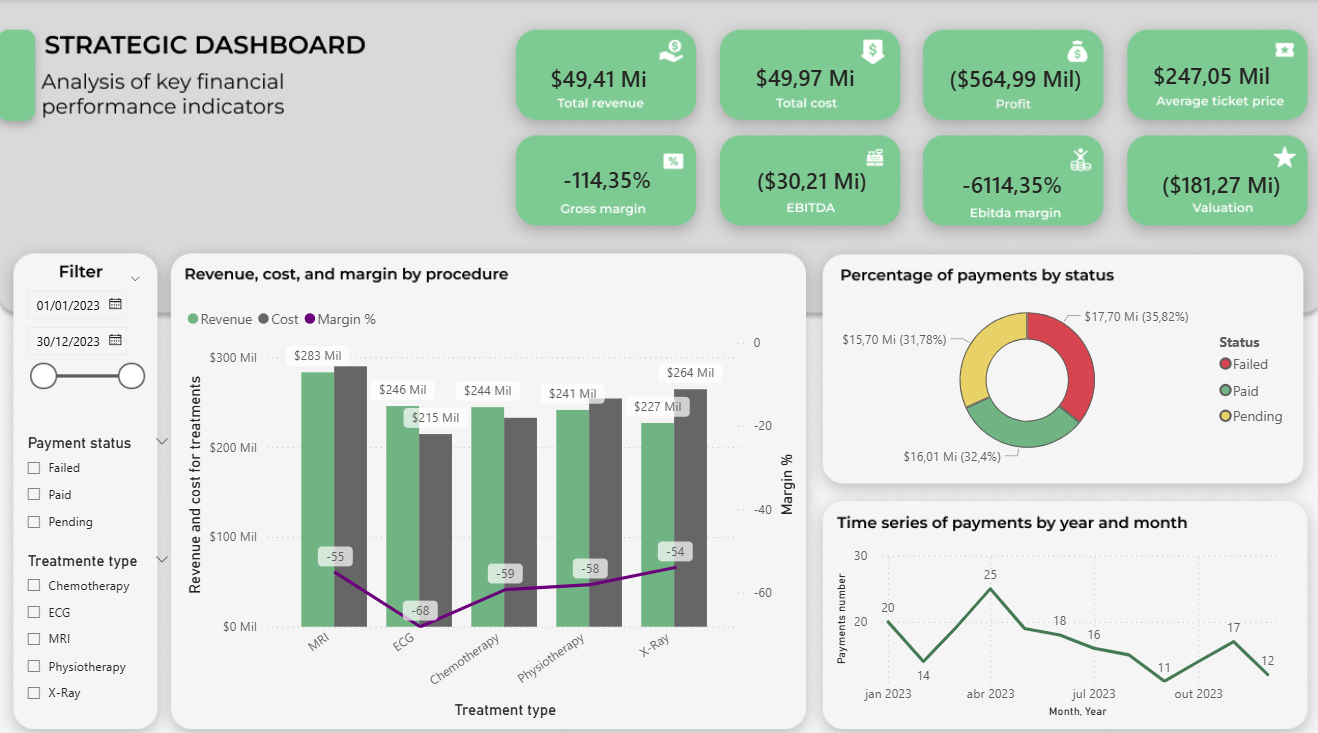

What the dashboard file says about the page in this screenshot:
{"tool":"powerbi","page":{"name":"Strategic","canvas":[1280,720],"ordinal":1},"visuals":[{"type":"cardVisual","fields":{"Data":["billing.Receita Total"]},"box":[509.1,50.7,141.2,39.8],"z":0},{"type":"cardVisual","fields":{"Data":["billing.Ticket Médio"]},"box":[909.1,51.3,166.3,47.8],"z":1000},{"type":"cardVisual","fields":{"Data":["treatments.Custo Total"]},"box":[703.4,50.7,142.4,39.8],"z":2000},{"type":"cardVisual","fields":{"Data":["billing.Margem"]},"box":[1094.8,51.3,170.9,41],"z":3000},{"type":"cardVisual","fields":{"Data":["billing.Margem EBITDA"]},"box":[909.1,145.8,157.2,62.7],"z":4000},{"type":"lineClusteredColumnComboChart","fields":{"Category":["treatments.treatment_type"],"Y":["billing.Receita_Procedimento","treatments.Custo_Procedimento"],"Y2":["billing.Margem %"]},"box":[177.7,288.2,597,411.3],"z":5000},{"type":"donutChart","fields":{"Category":["billing.payment_status"],"Y":["Sum(billing.amount)"]},"box":[803.5,278.7,451.2,178.6],"z":6000},{"type":"lineChart","fields":{"Category":["billing.bill_date.Variation.Hierarquia de datas.Ano","billing.bill_date.Variation.Hierarquia de datas.Mês"],"Y":["CountNonNull(billing.payment_status)"]},"box":[803.5,523.6,451.2,174.9],"z":7000},{"type":"slicer","fields":{"Values":["billing.payment_status"]},"box":[15.9,414.7,161.8,109.4],"z":8000},{"type":"cardVisual","fields":{"Data":["billing.Margin %"]},"box":[528.6,152.7,121.9,39.9],"z":9000},{"type":"cardVisual","fields":{"Data":["billing.Valuation"]},"box":[1106.2,152.7,159.5,49],"z":10000},{"type":"cardVisual","fields":{"Data":["billing.EBITDA"]},"box":[714.3,152.7,153.8,39.9],"z":11000},{"type":"slicer","fields":{"Values":["treatments.treatment_type"]},"box":[15.9,528.6,161.8,162.9],"z":12000},{"type":"slicer","fields":{"Values":["treatments.treatment_date"]},"box":[15.9,263.2,134.4,139],"z":13000}]}

Visuals, with their boxes in screenshot pixels (x1, y1, x2, y2), scaled from the page's 1280x720 canvas onto the 1318x733 screenshot:
cardVisual - billing.Receita Total: (524, 52, 670, 92)
cardVisual - billing.Ticket Médio: (936, 52, 1107, 101)
cardVisual - treatments.Custo Total: (724, 52, 871, 92)
cardVisual - billing.Margem: (1127, 52, 1303, 94)
cardVisual - billing.Margem EBITDA: (936, 148, 1098, 212)
lineClusteredColumnComboChart - treatments.treatment_type x billing.Receita_Procedimento: (183, 293, 798, 712)
donutChart - billing.payment_status x Sum(billing.amount): (827, 284, 1292, 466)
lineChart - billing.bill_date.Variation.Hierarquia de datas.Ano x billing.bill_date.Variation.Hierarquia de datas.Mês: (827, 533, 1292, 711)
slicer - billing.payment_status: (16, 422, 183, 534)
cardVisual - billing.Margin %: (544, 155, 670, 196)
cardVisual - billing.Valuation: (1139, 155, 1303, 205)
cardVisual - billing.EBITDA: (736, 155, 894, 196)
slicer - treatments.treatment_type: (16, 538, 183, 704)
slicer - treatments.treatment_date: (16, 268, 155, 409)
